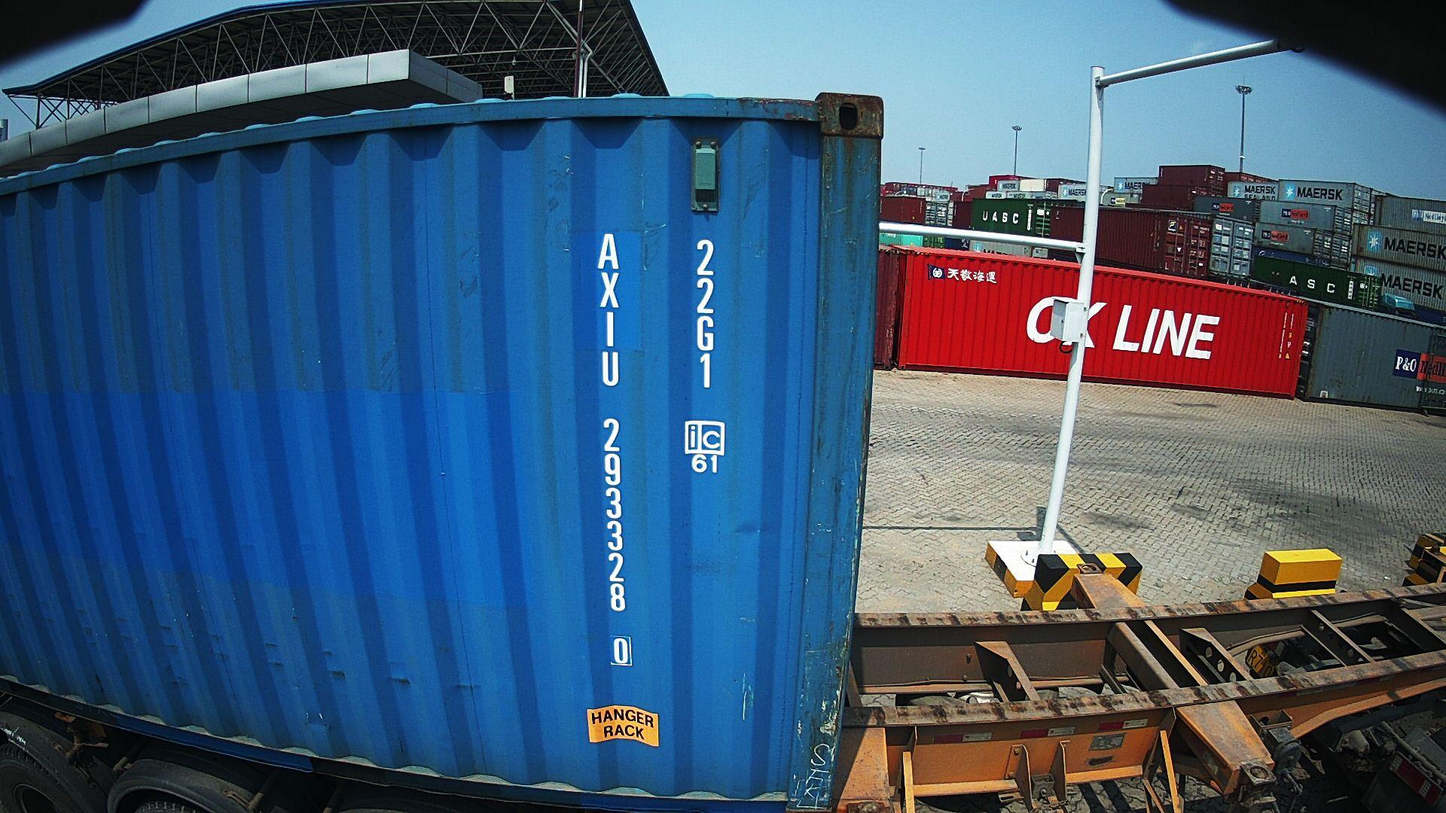container-numbers: (593, 229, 635, 668), (689, 236, 722, 394)
